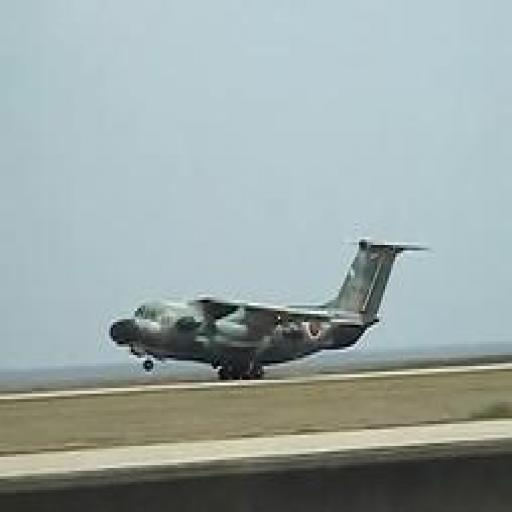aircraft: (107, 234, 431, 383)
